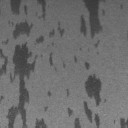red iron: (0, 0, 102, 128), (80, 0, 106, 48), (120, 117, 128, 128), (66, 88, 68, 96), (48, 92, 52, 96)
